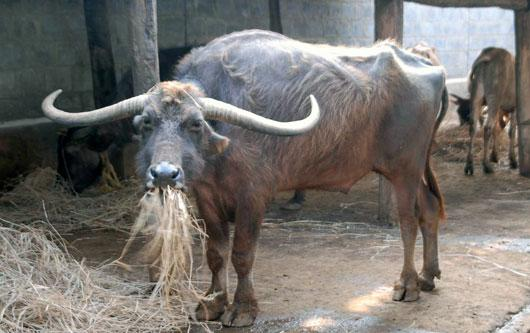muzzles: (144, 161, 186, 190)
